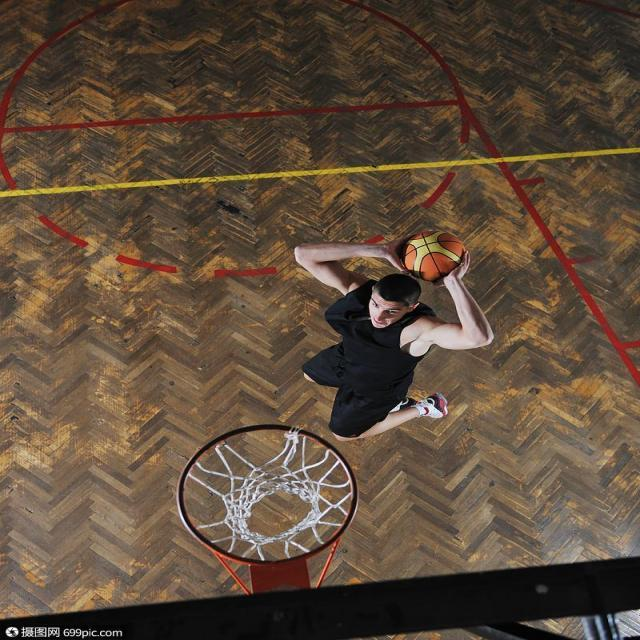rim: (399, 228, 468, 282)
